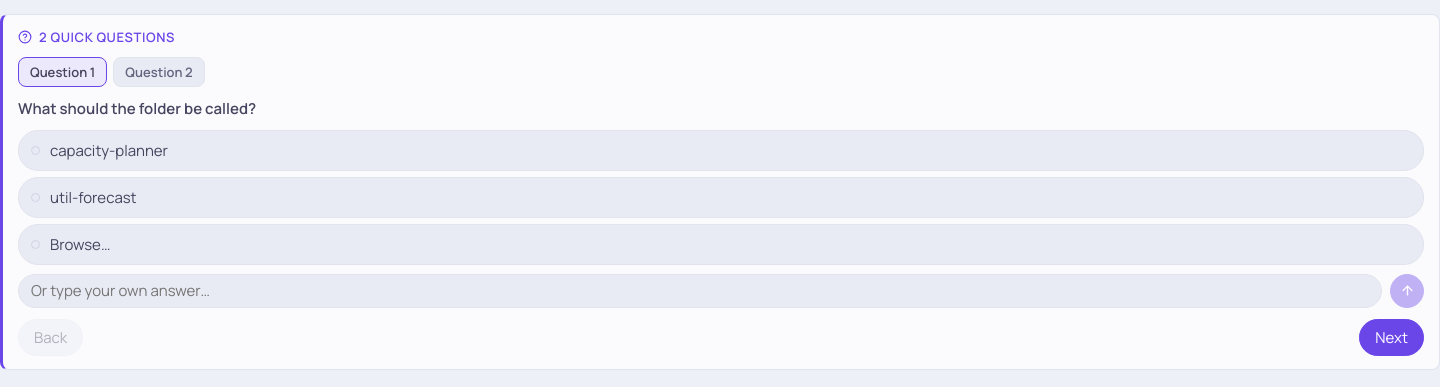
Test: UserQuestionGroupCard stepper › Submit waits for every answer, then sends them all in one continuation
Click the button "capacity-planner" at (109, 150), box [18,130,1424,170]
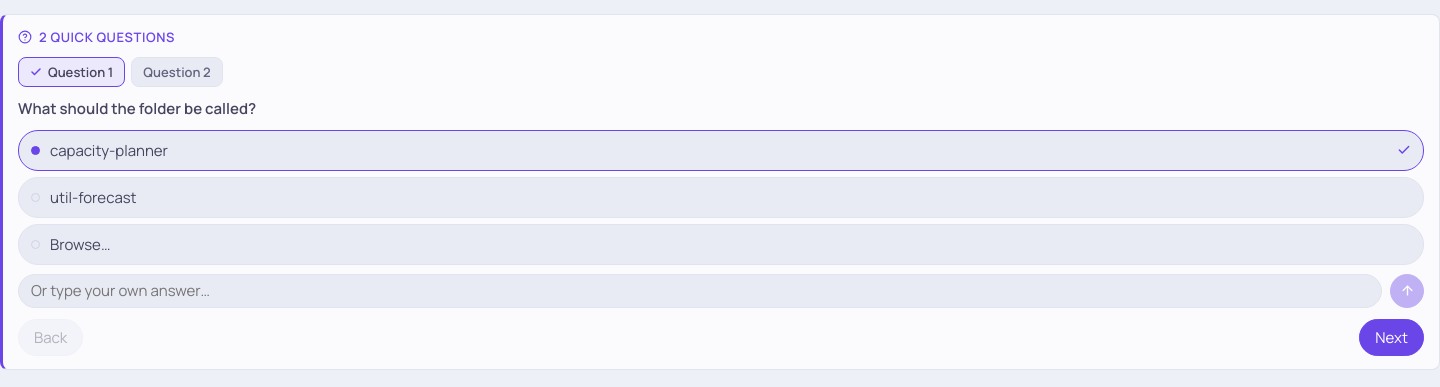
Click the button "Next" at (1392, 337), box [1359,318,1424,356]
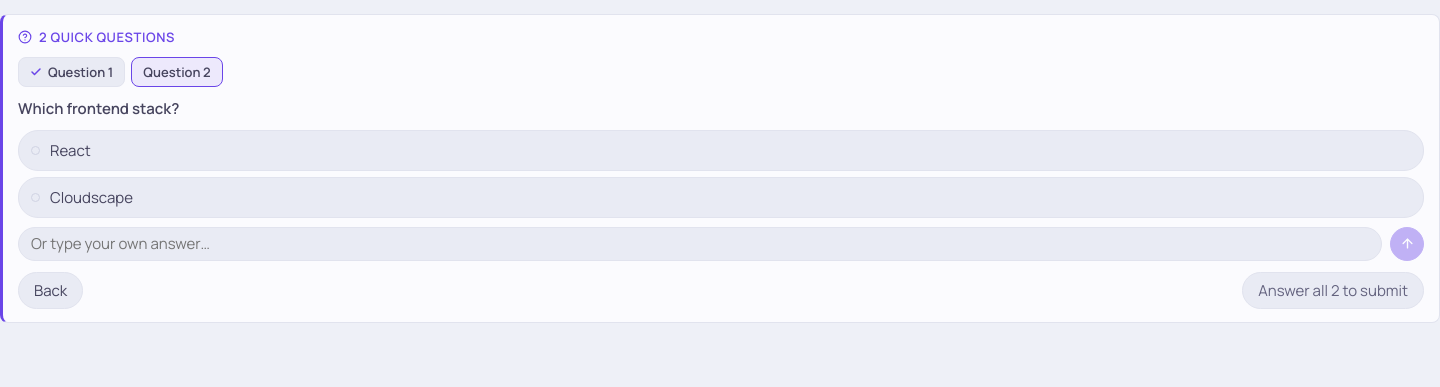
Expected: the button "Next" is gone
Expected: the button "Answer all 2 to submit" is disabled, [1242,272,1424,308]
Click the button "React" at (70, 150), box [18,130,1424,170]
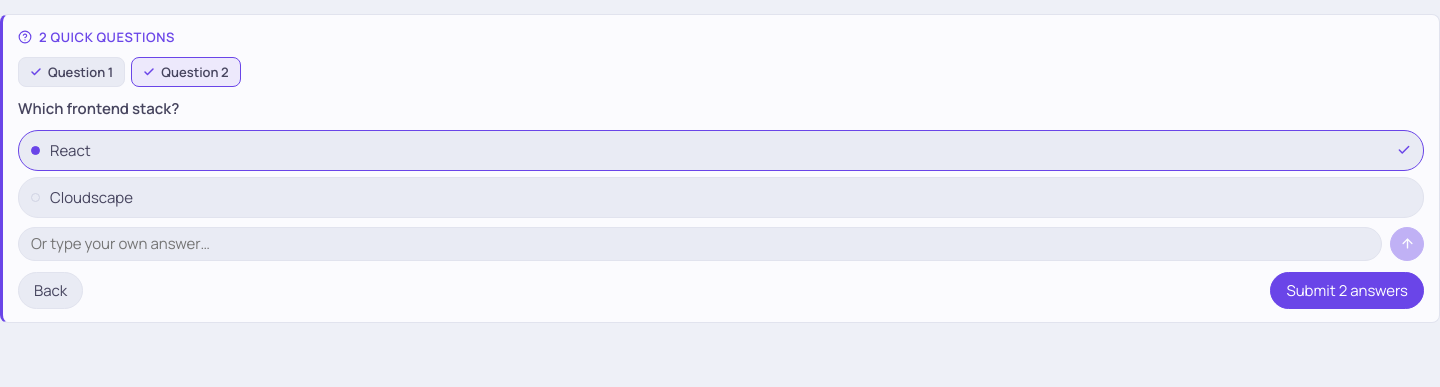
Expected: the button "Submit 2 answers" is enabled
Click the button "Submit 2 answers" at (1347, 290), box [1270,272,1424,308]
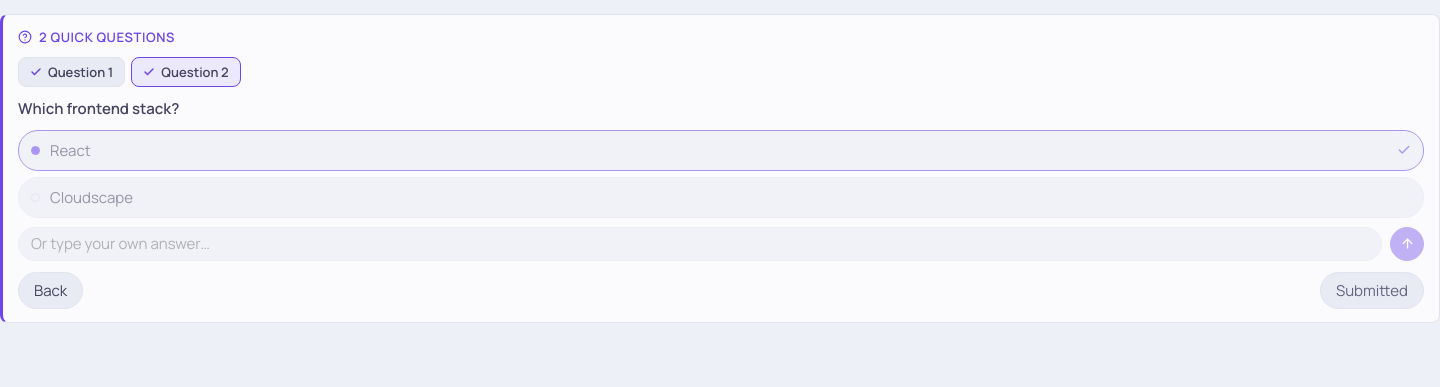
Expected: the button "Submitted" is disabled, [1320,272,1424,308]
Expected: the button "React" is disabled, [18,130,1424,170]
